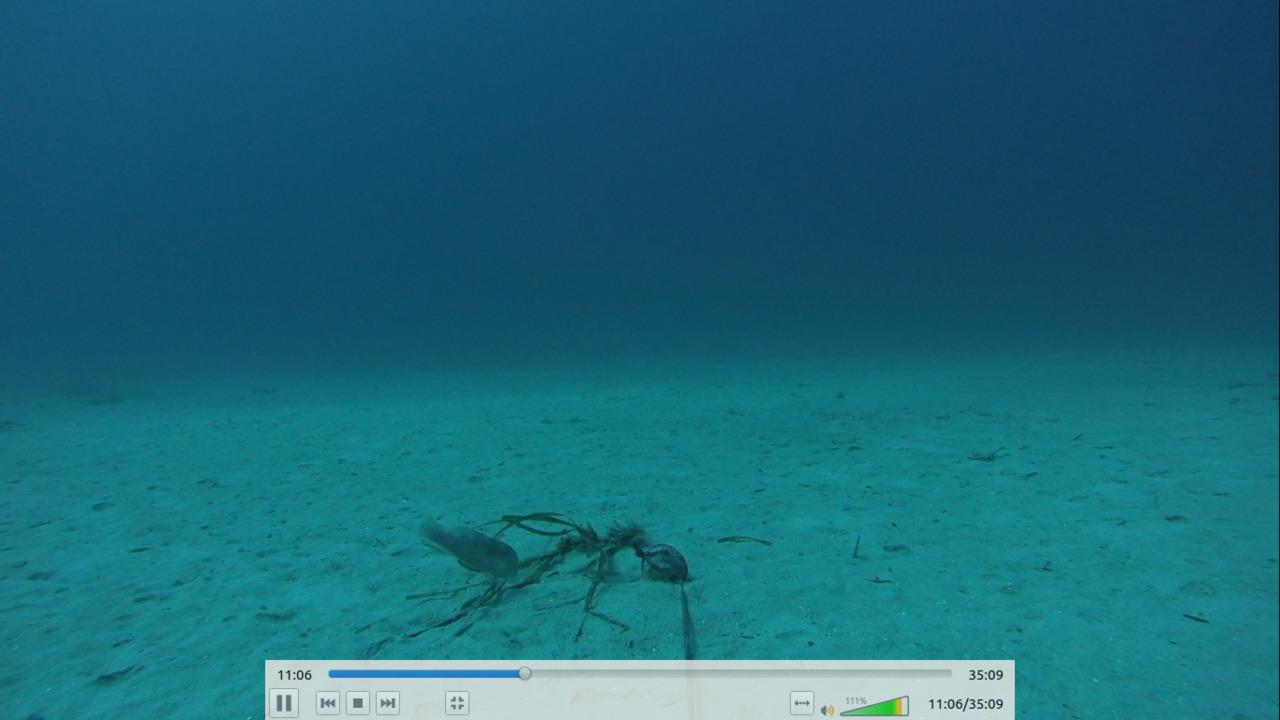raor: (413, 514, 521, 580)
